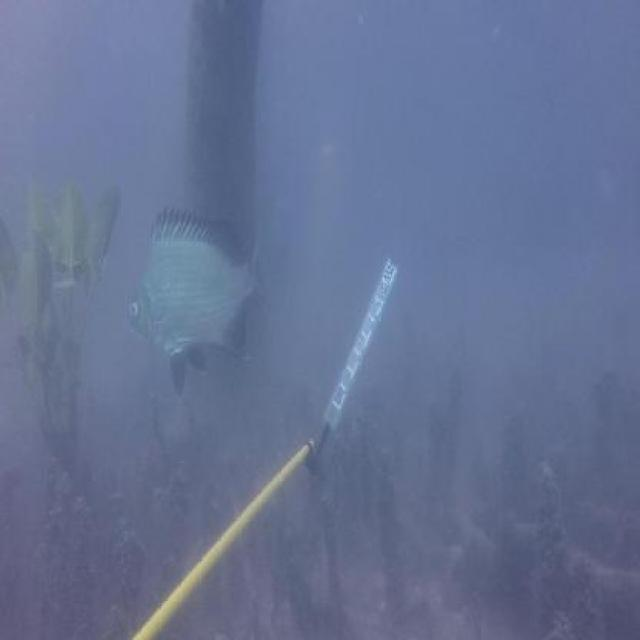acanthopagrus_palmaris: (122, 190, 270, 396)
